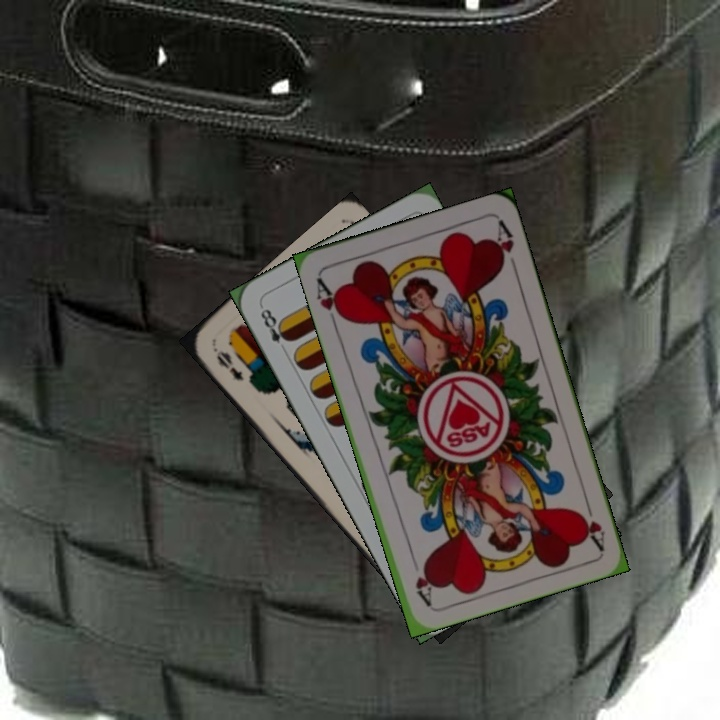E8: (256, 302, 294, 357)
EO: (212, 346, 246, 384)
HA: (312, 273, 348, 330), (574, 494, 608, 552)
